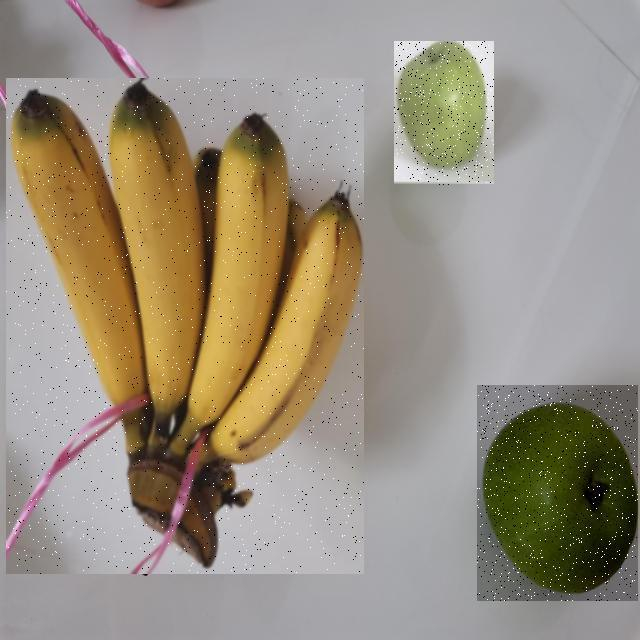Apple: (477, 385, 638, 601), (395, 42, 495, 186)
Banana: (6, 79, 364, 575)
